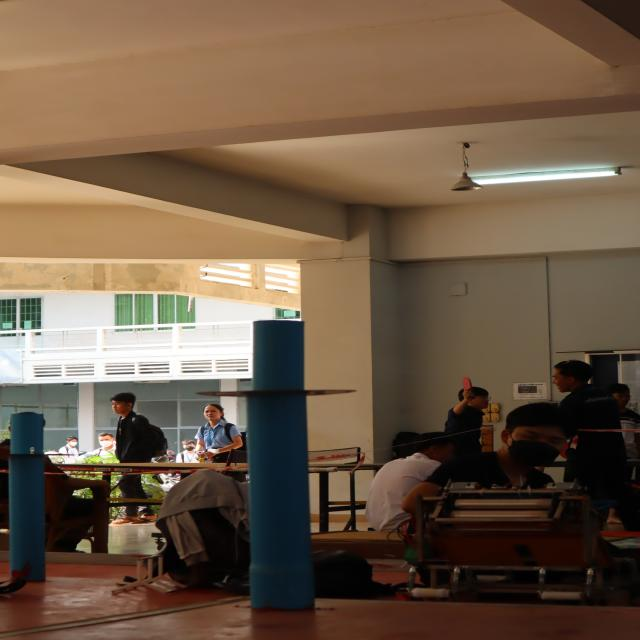pole: (216, 310, 347, 462), (0, 402, 63, 490)
